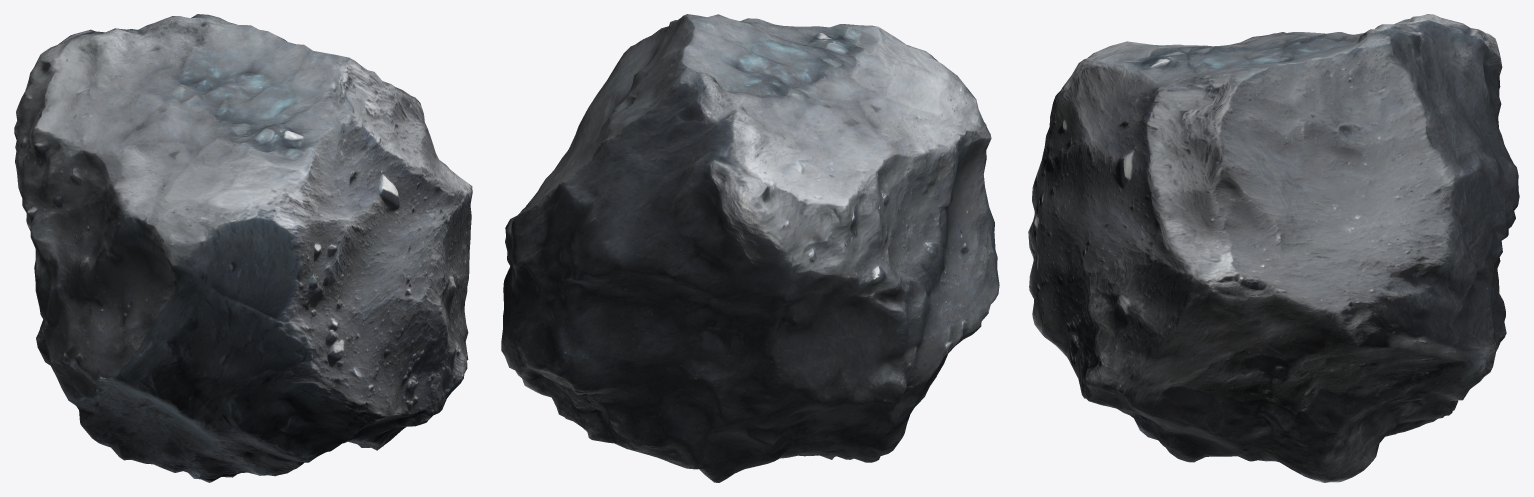
File: gold.glb
3 views of the same model, side by side, from view 1: azimuth 30°, elevation 25°; view 2: azimuth 150°, elevation 25°; view 3: azimuth 270°, elevation 25° (orthographic). The views are drawn at different scales.
Size of the model in its own units: 1.82 by 1.83 by 2.
Materials: 1 (1 with a texture image).
